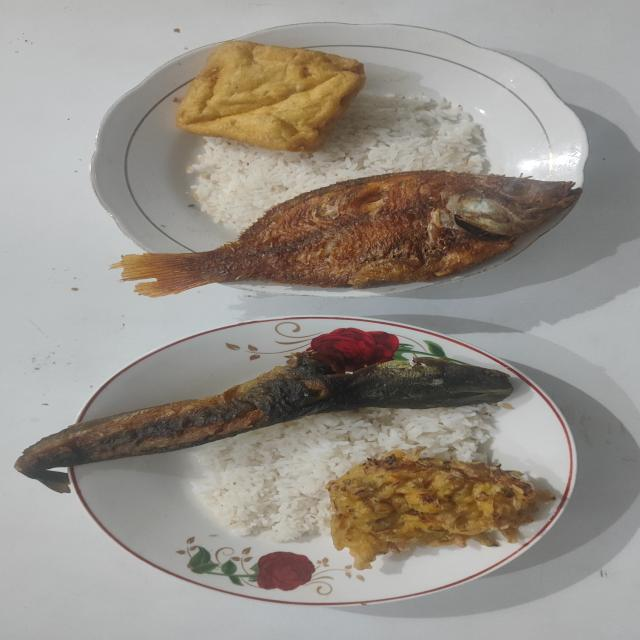ikan_mujair: (112, 170, 581, 298)
nasi_putih: (188, 91, 492, 235), (192, 404, 500, 542)
tahu_goreng: (175, 40, 365, 152)
